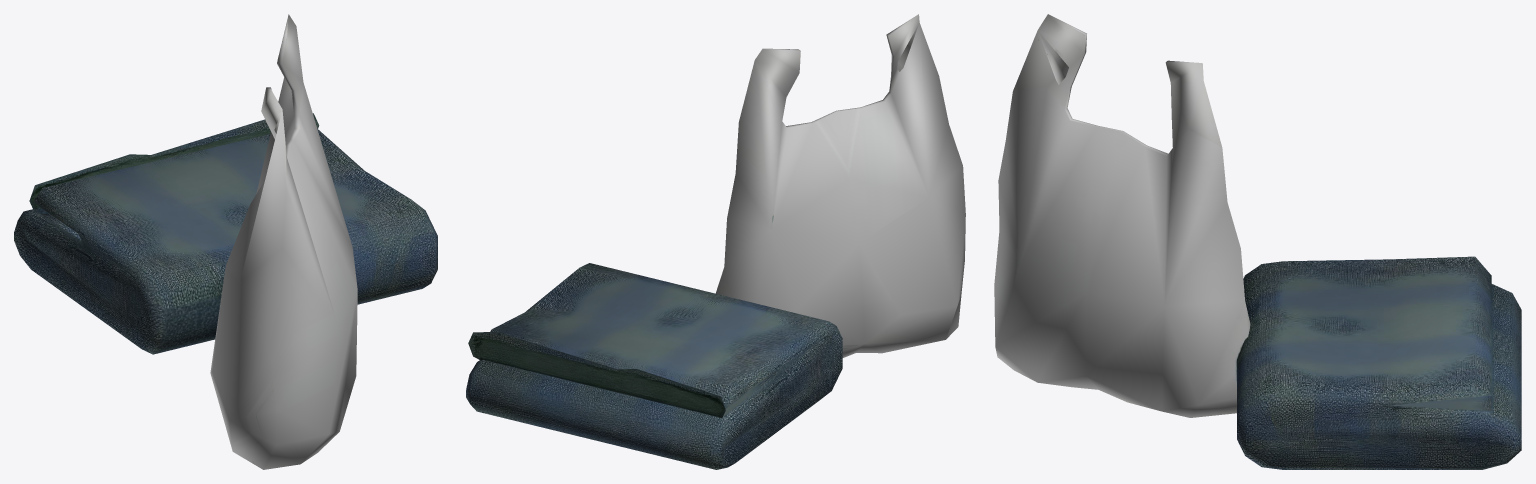
The model's file is Bag and blanket.fbx.
3 renders of one model, left to right at view 1: azimuth 30°, elevation 25°; view 2: azimuth 150°, elevation 25°; view 3: azimuth 270°, elevation 25°, orthographic. The views are drawn at different scales.
Parts seen in each view (by area): view 1: tripo_node_5093dc0c-691c-438d-90d5-7763d2d6d70f; view 2: tripo_node_5093dc0c-691c-438d-90d5-7763d2d6d70f; view 3: tripo_node_5093dc0c-691c-438d-90d5-7763d2d6d70f.
Boxes of the visible parts, bbox=[...] form: tripo_node_5093dc0c-691c-438d-90d5-7763d2d6d70f: bbox=[14, 14, 437, 469]; tripo_node_5093dc0c-691c-438d-90d5-7763d2d6d70f: bbox=[466, 14, 965, 469]; tripo_node_5093dc0c-691c-438d-90d5-7763d2d6d70f: bbox=[994, 14, 1521, 469].
Bounding box in the file's own units: 67.77 × 72.46 × 99.8.
Materials: 1 (1 with a texture image).
